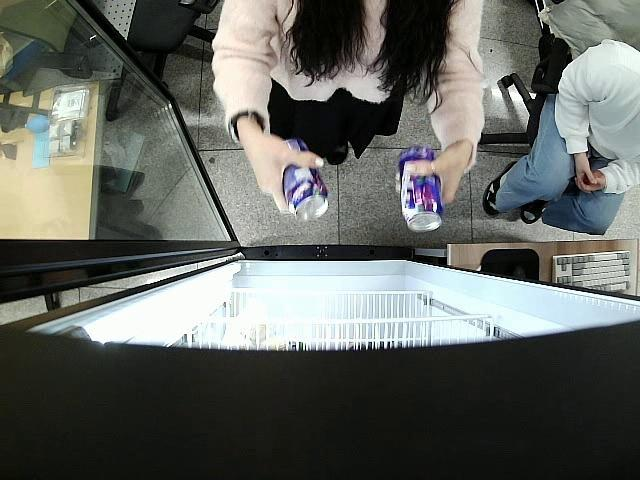14_welchsGrape: (397, 142, 444, 233), (279, 136, 328, 222)
